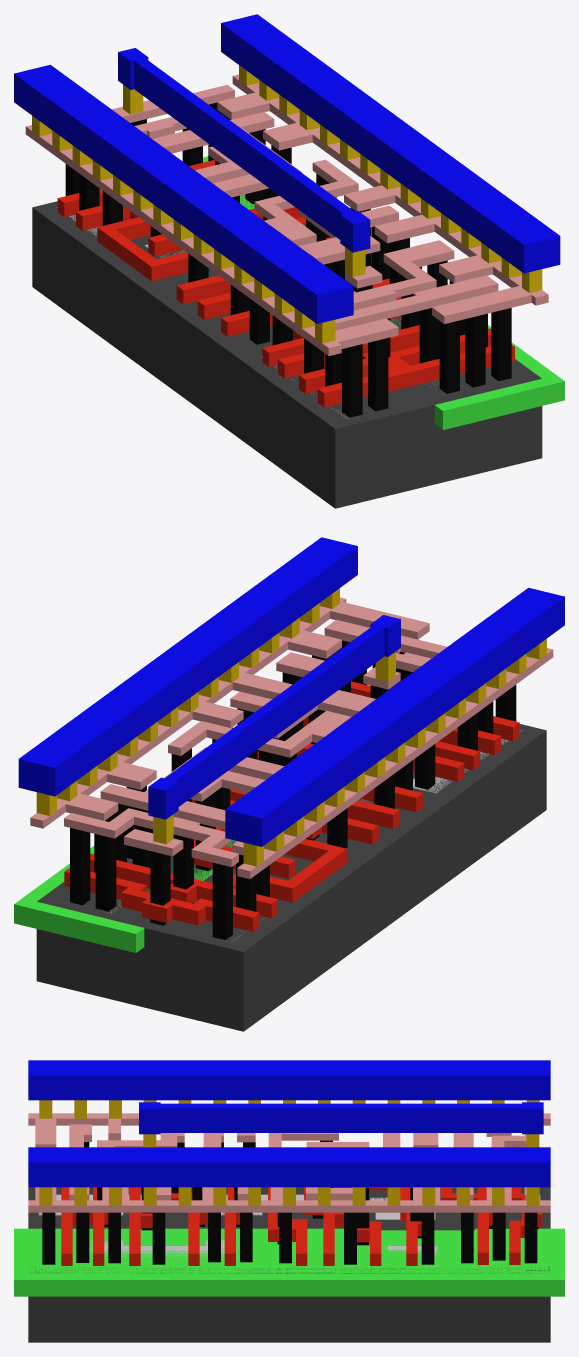
File: sky130_fd_sc_hd__dlclkp_2.obj
3 renders of one model, top to bottom at view 1: azimuth 30°, elevation 25°; view 2: azimuth 150°, elevation 25°; view 3: azimuth 270°, elevation 25°, orthographic. The views are drawn at different scales.
Visible parts, largest first — view 1: metal1, subs, li, licon, poly, mcon, nwell; view 2: metal1, subs, li, licon, poly, mcon, nwell; view 3: metal1, subs, nwell, li, poly, licon, mcon, tap, diff.
Boxes of the visible parts, box(x1,y1,x2,y2) form: metal1: box(14, 14, 560, 323); subs: box(32, 195, 542, 508); li: box(25, 74, 548, 355); licon: box(65, 102, 511, 417); poly: box(57, 160, 514, 407); mcon: box(32, 65, 542, 343); nwell: box(203, 156, 564, 429); metal1: box(18, 537, 564, 846); subs: box(36, 724, 546, 1031); li: box(30, 597, 553, 878); licon: box(70, 640, 516, 939); poly: box(64, 681, 519, 931); mcon: box(36, 588, 546, 866); nwell: box(14, 684, 370, 952); metal1: box(28, 1060, 550, 1187); subs: box(28, 1187, 550, 1342); nwell: box(14, 1228, 564, 1296); li: box(28, 1113, 550, 1212); poly: box(61, 1187, 542, 1265); licon: box(42, 1140, 538, 1264); mcon: box(39, 1100, 539, 1205); tap: box(89, 1239, 507, 1259); diff: box(38, 1194, 540, 1219).
Bounding box in the file's own units: 3.2 × 2.74 × 7.28.
